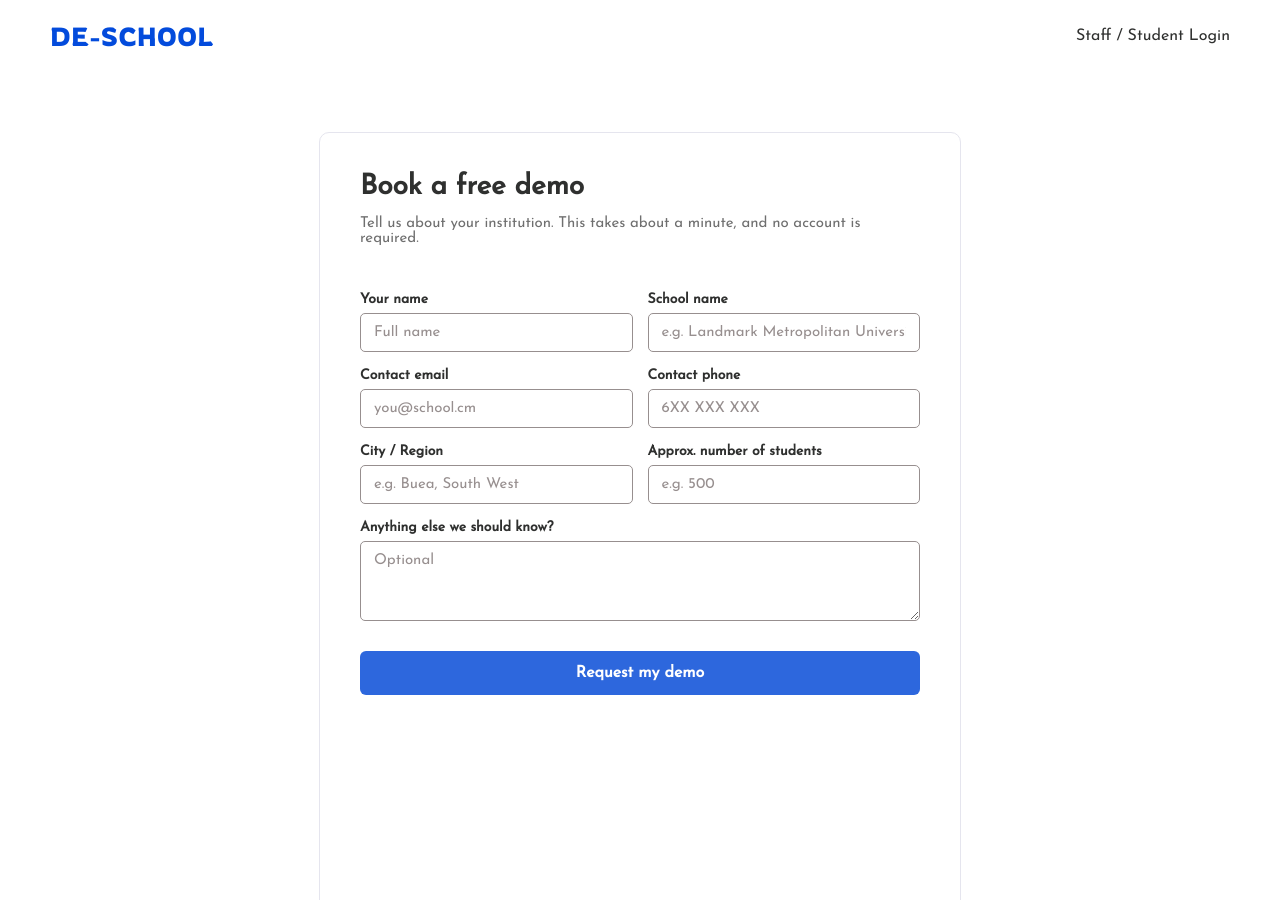
BookDemo › shows the real server error message on failure and stays on the form
In the field with placeholder "Full name": (496, 332) top-left (360, 313), bottom-right (632, 352), type "Marie Ngu"
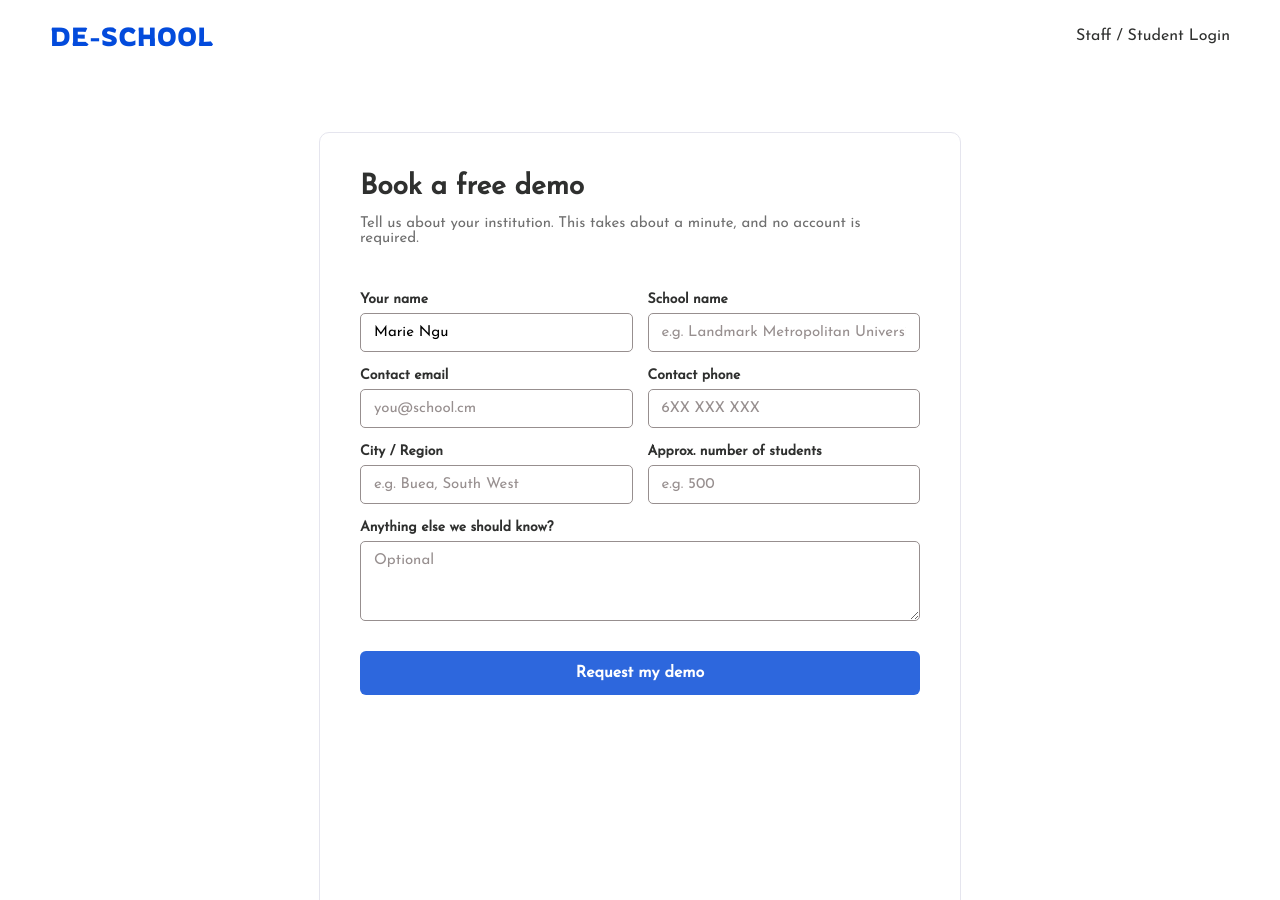
In the field with placeholder "e.g. Landmark Metropolitan University": (784, 332) top-left (648, 313), bottom-right (920, 352), type "Bright Future"
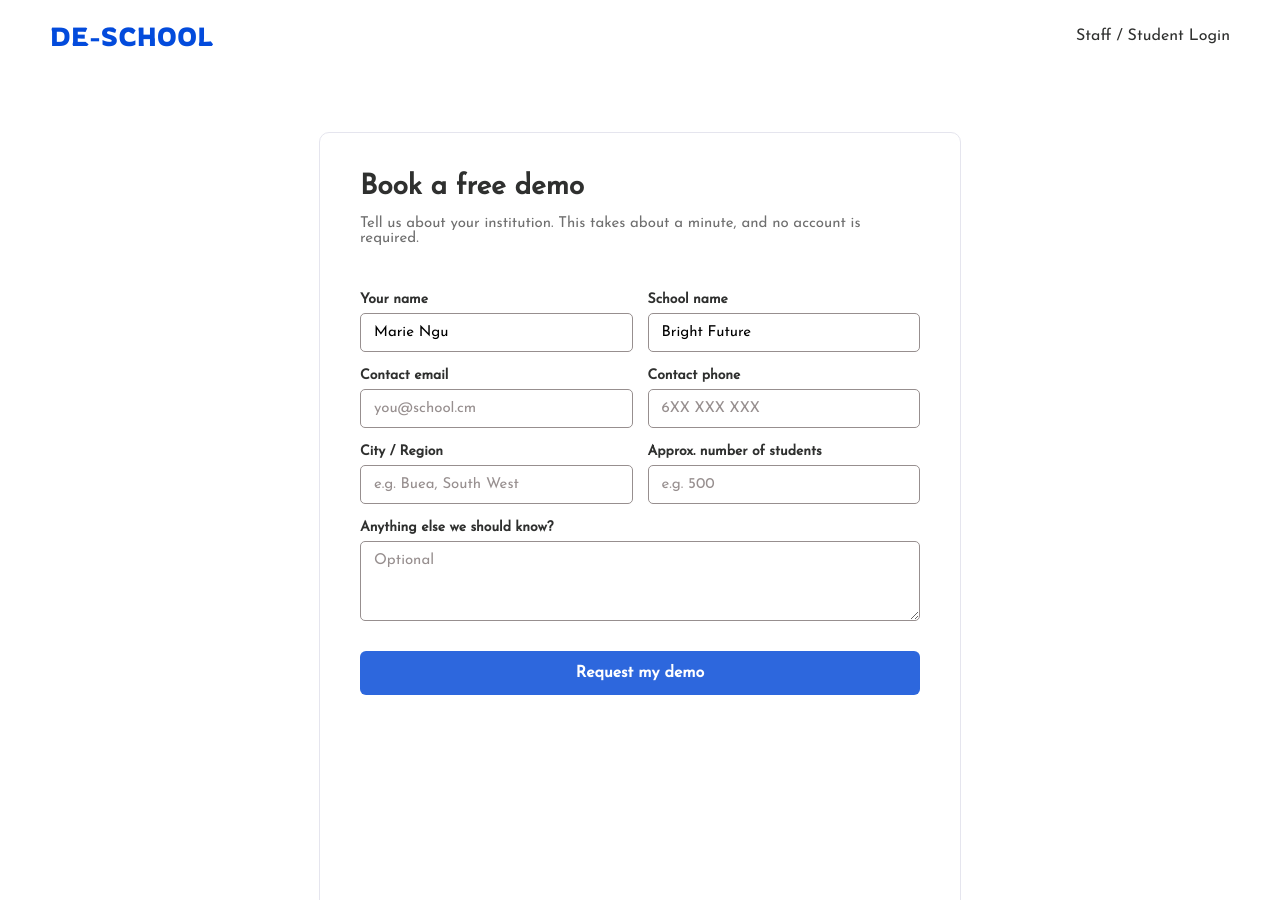
In the field with placeholder "you@school.cm": (496, 408) top-left (360, 389), bottom-right (632, 428), type "marie@school.cm"
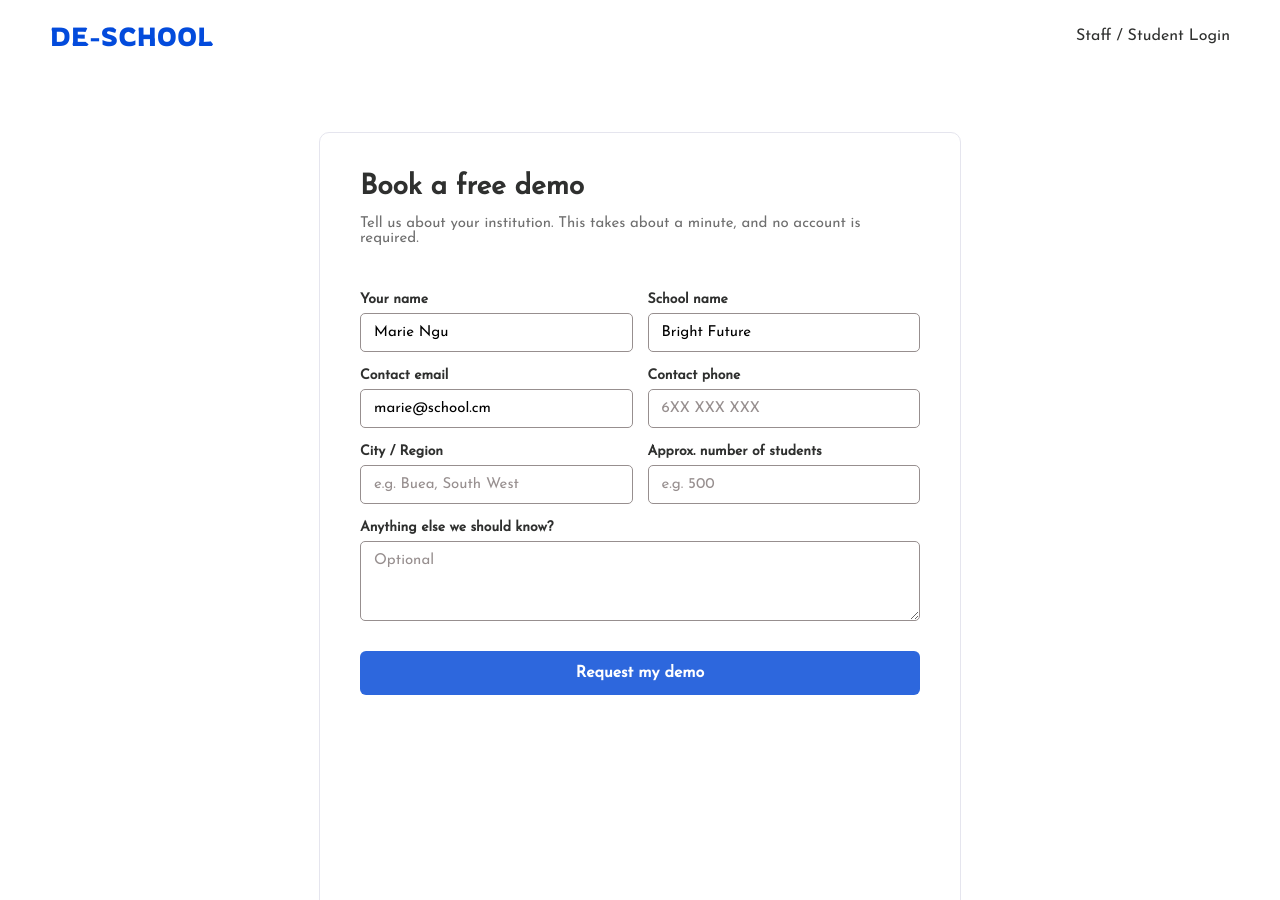
Click the button "Request my demo": (640, 673) top-left (360, 651), bottom-right (920, 695)
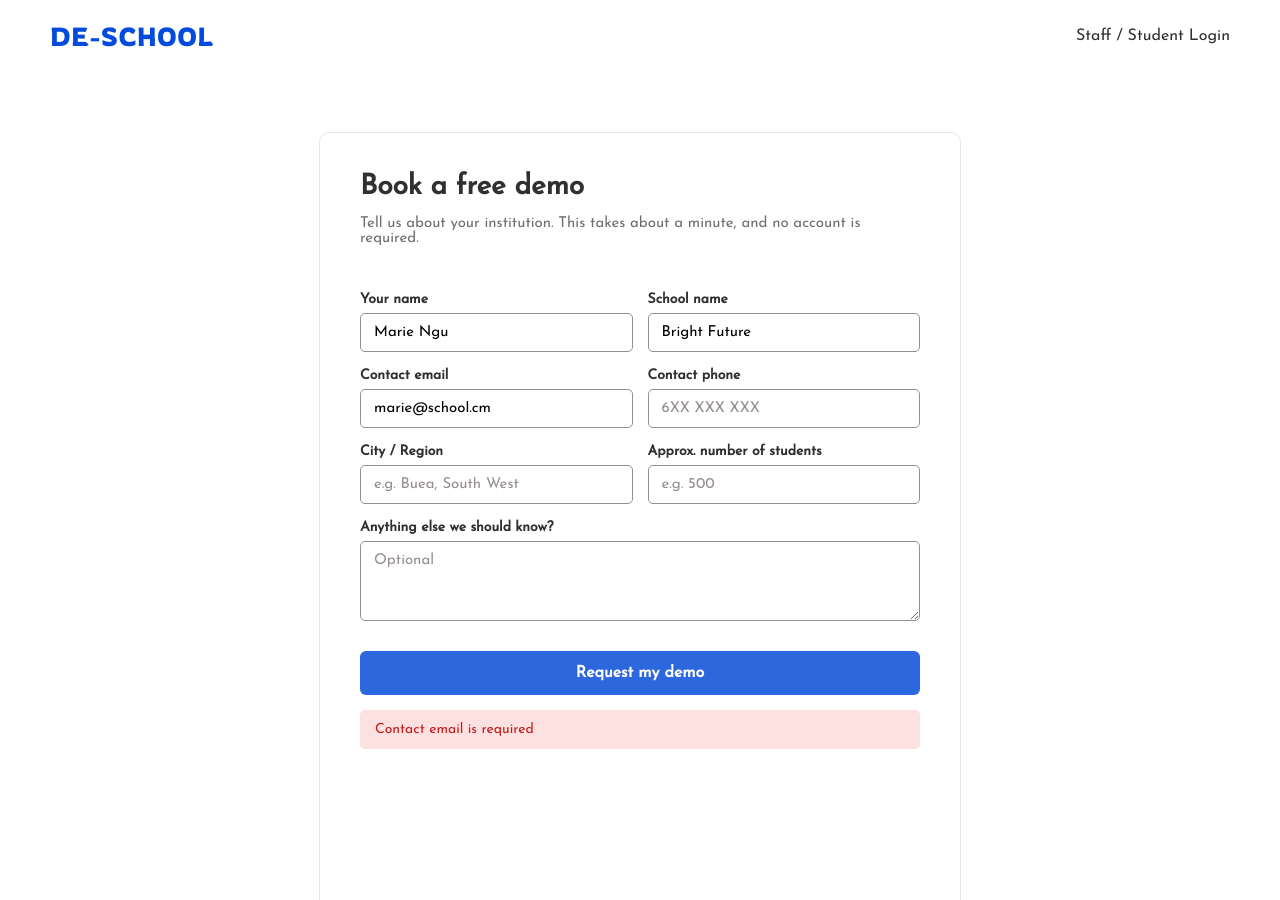
expect the text "Contact email is required" is shown: met, box top-left (360, 710), bottom-right (920, 749)
